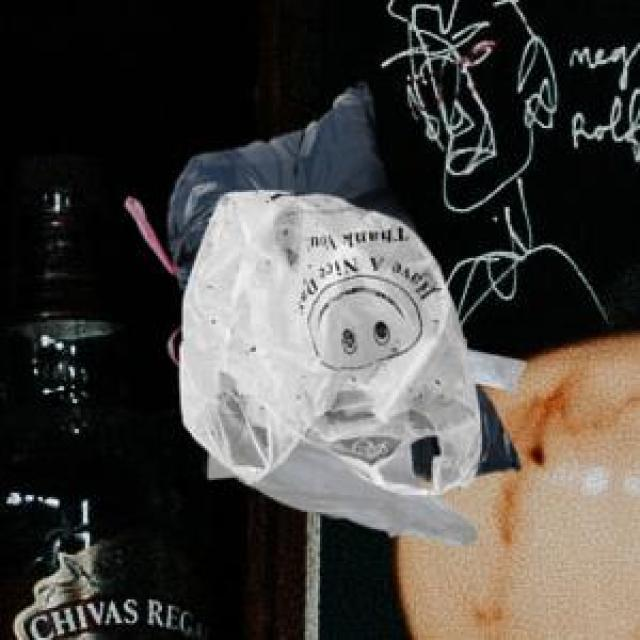miscellaneous trash: (122, 79, 516, 476), (205, 347, 521, 542)
